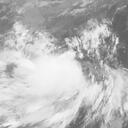cyclone: (32, 47, 84, 99)
